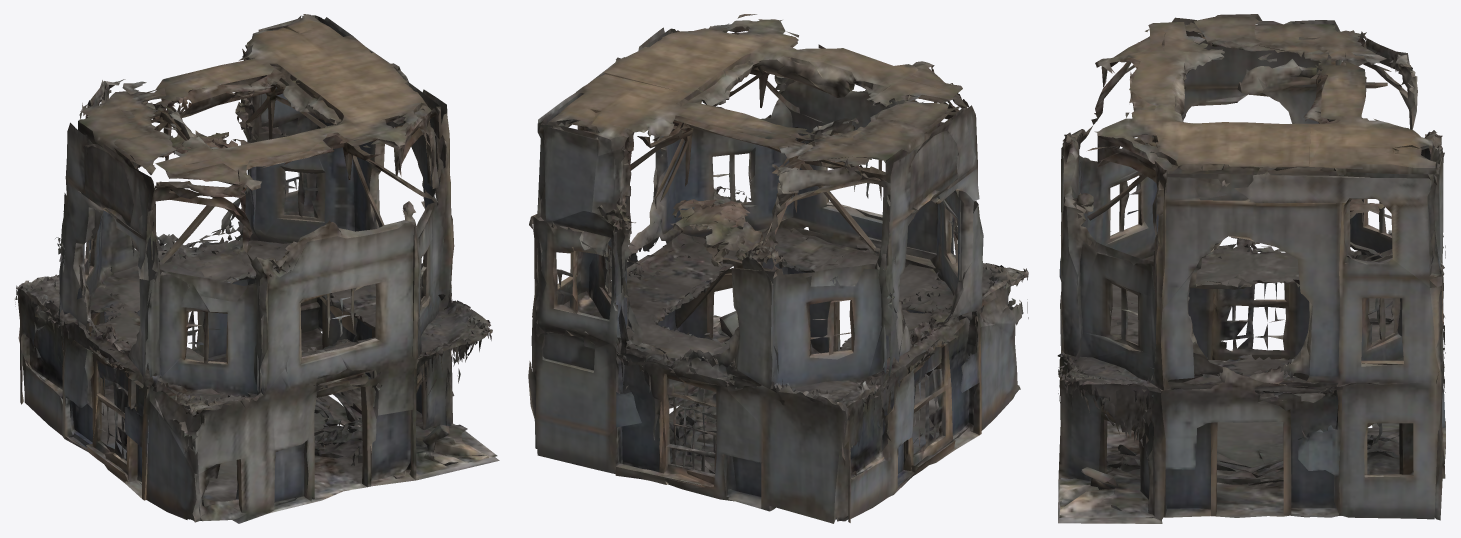
File: ruin_house.glb
The picture shows the model from 3 angles, left to right: view 1: azimuth 30°, elevation 25°; view 2: azimuth 150°, elevation 25°; view 3: azimuth 270°, elevation 25°; orthographic projection. The views are drawn at different scales.
Parts seen in each view (by area): view 1: ruin_house; view 2: ruin_house; view 3: ruin_house.
Boxes of the visible parts, x1,y1,x2,y2 form: ruin_house: [15, 14, 499, 523]; ruin_house: [528, 14, 1028, 523]; ruin_house: [1057, 14, 1445, 523].
Size of the model in its own units: 1.98 by 1.99 by 1.98.
Materials: 1 (1 with a texture image).
